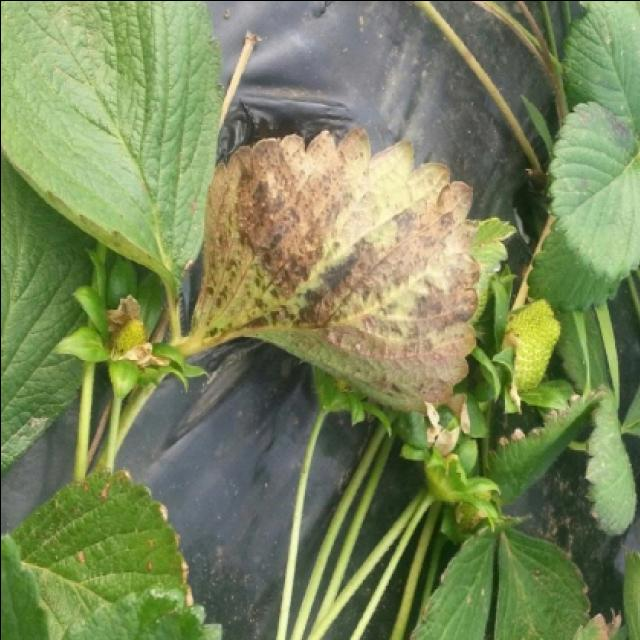Angular Leafspot: (186, 124, 482, 416)
